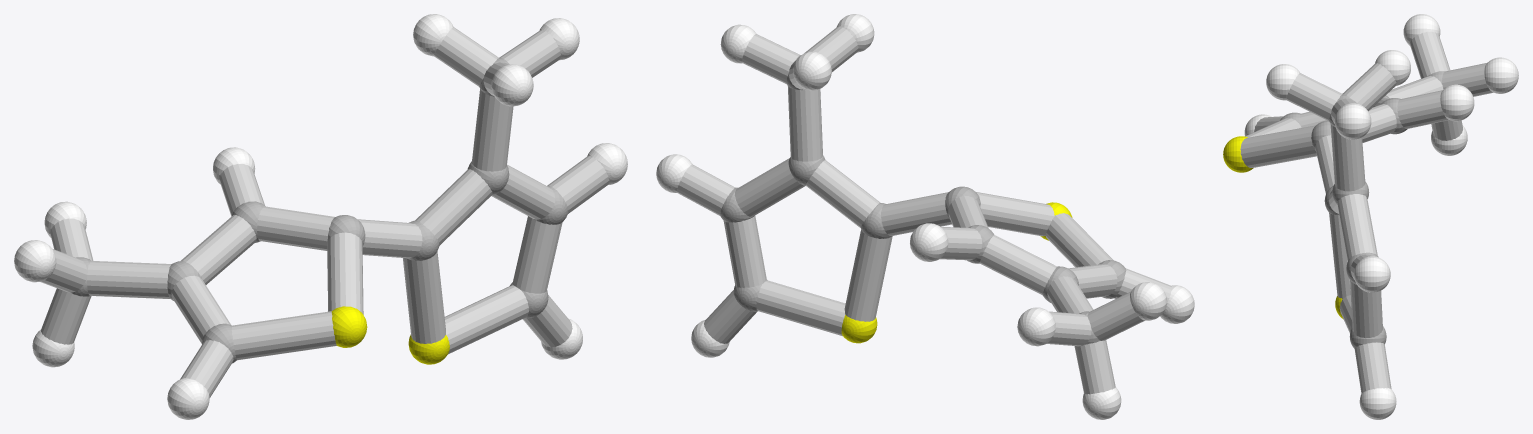
Rendered from Methylthiophene_Phi_40_Theta_260_Methylthiophene.glb.
3 views of the same model, side by side, from view 1: azimuth 30°, elevation 25°; view 2: azimuth 150°, elevation 25°; view 3: azimuth 270°, elevation 25° (orthographic). The views are drawn at different scales.
Parts seen in each view (by area): view 1: grp7965, grp3621, grp1, grp7241; view 2: grp7965, grp3621, grp1, grp7241; view 3: grp7965, grp3621, grp1, grp7241.
Part boxes in pixels (<box>): grp7965: <box>40,27,609,397</box>; grp3621: <box>14,14,627,419</box>; grp1: <box>71,58,568,363</box>; grp7241: <box>331,306,449,364</box>; grp7965: <box>676,26,1171,394</box>; grp3621: <box>656,14,1194,419</box>; grp1: <box>720,55,1126,344</box>; grp7241: <box>841,202,1072,343</box>; grp7965: <box>1240,31,1493,393</box>; grp3621: <box>1244,14,1518,419</box>; grp1: <box>1280,71,1445,348</box>; grp7241: <box>1223,136,1343,319</box>.
Bounding box in the file's own units: 9.46 × 5.69 × 4.82.
